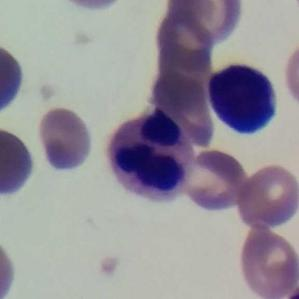Neutrophil: (105, 99, 204, 210)
Platelets: (95, 254, 121, 280)
RBC: (139, 17, 219, 149), (202, 55, 284, 140), (178, 146, 251, 215), (150, 5, 219, 74), (235, 226, 299, 299), (34, 103, 96, 176), (234, 161, 299, 230), (166, 0, 247, 48), (0, 126, 34, 202), (0, 40, 25, 118), (280, 38, 299, 112), (0, 234, 19, 299), (54, 0, 131, 14)
